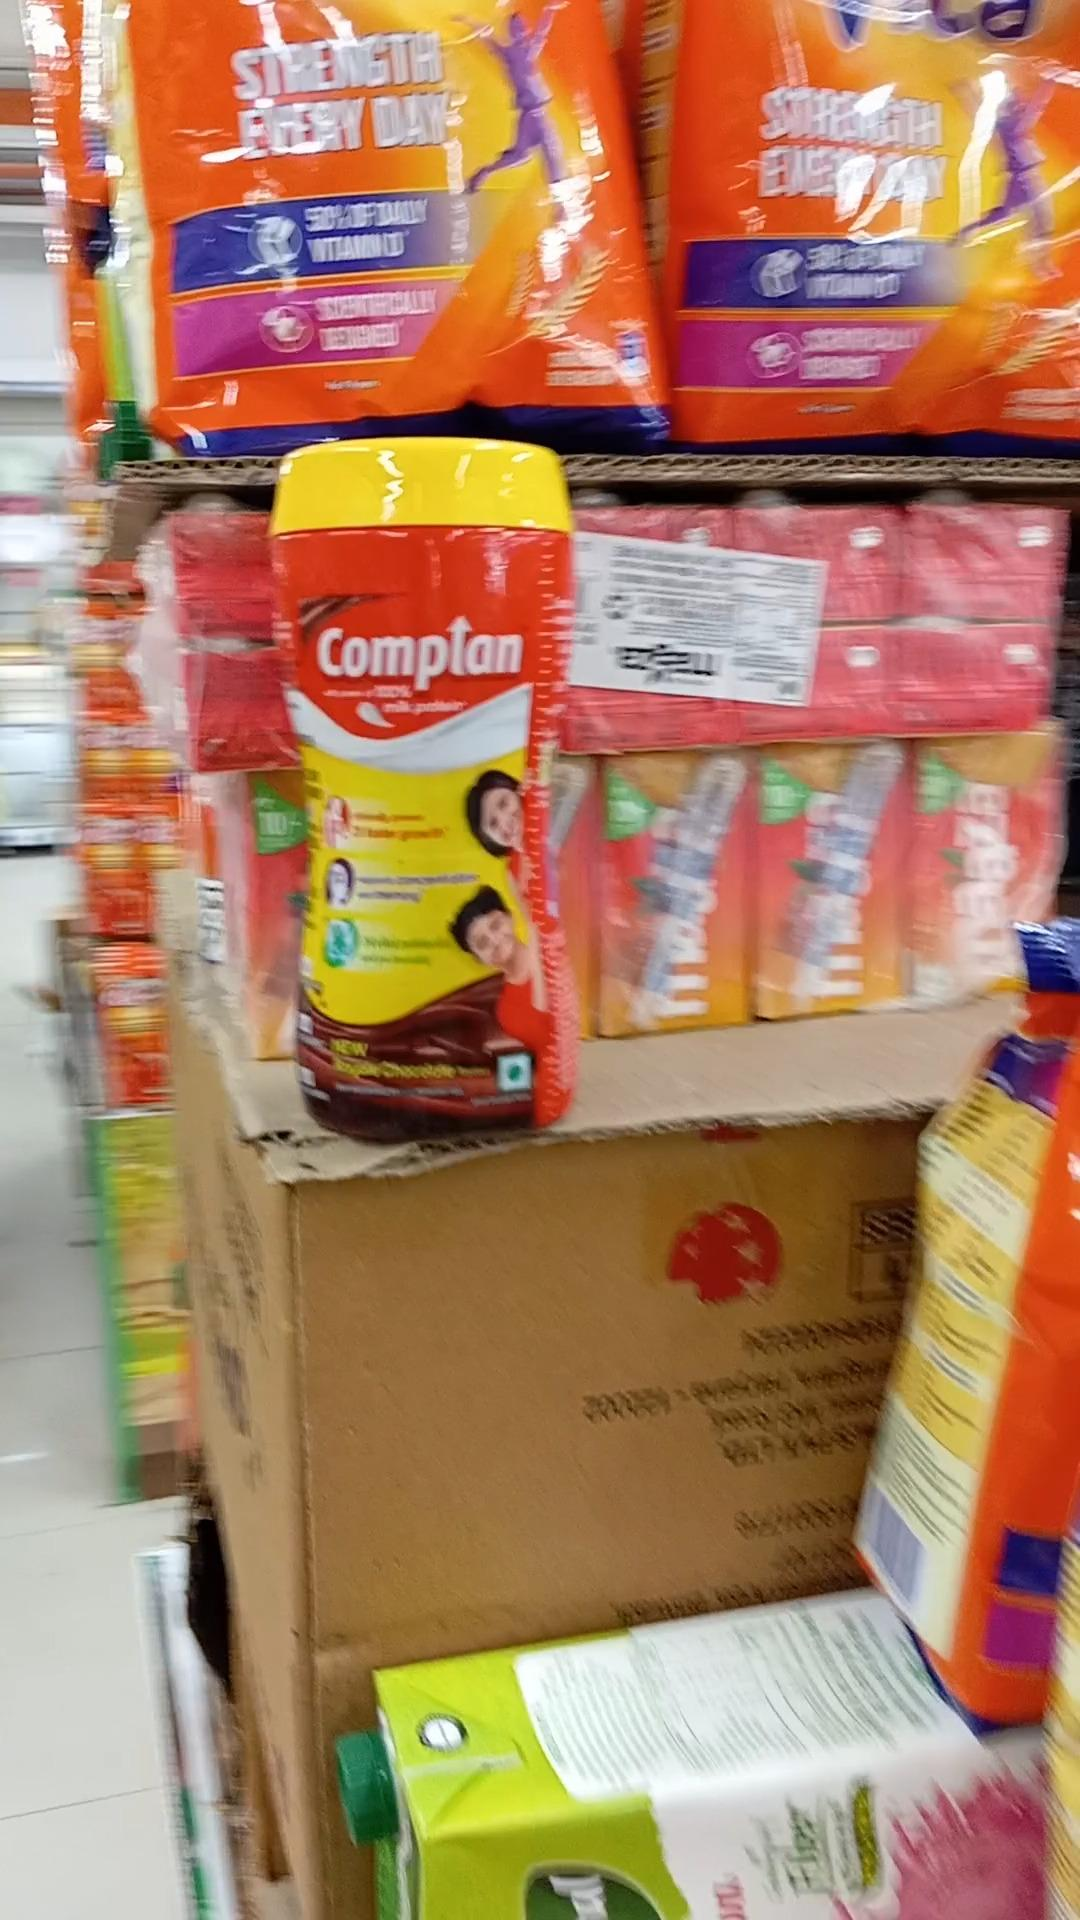COMPLAN_CHOCOLATE_200_GMS_JAR: (269, 426, 568, 1124)
